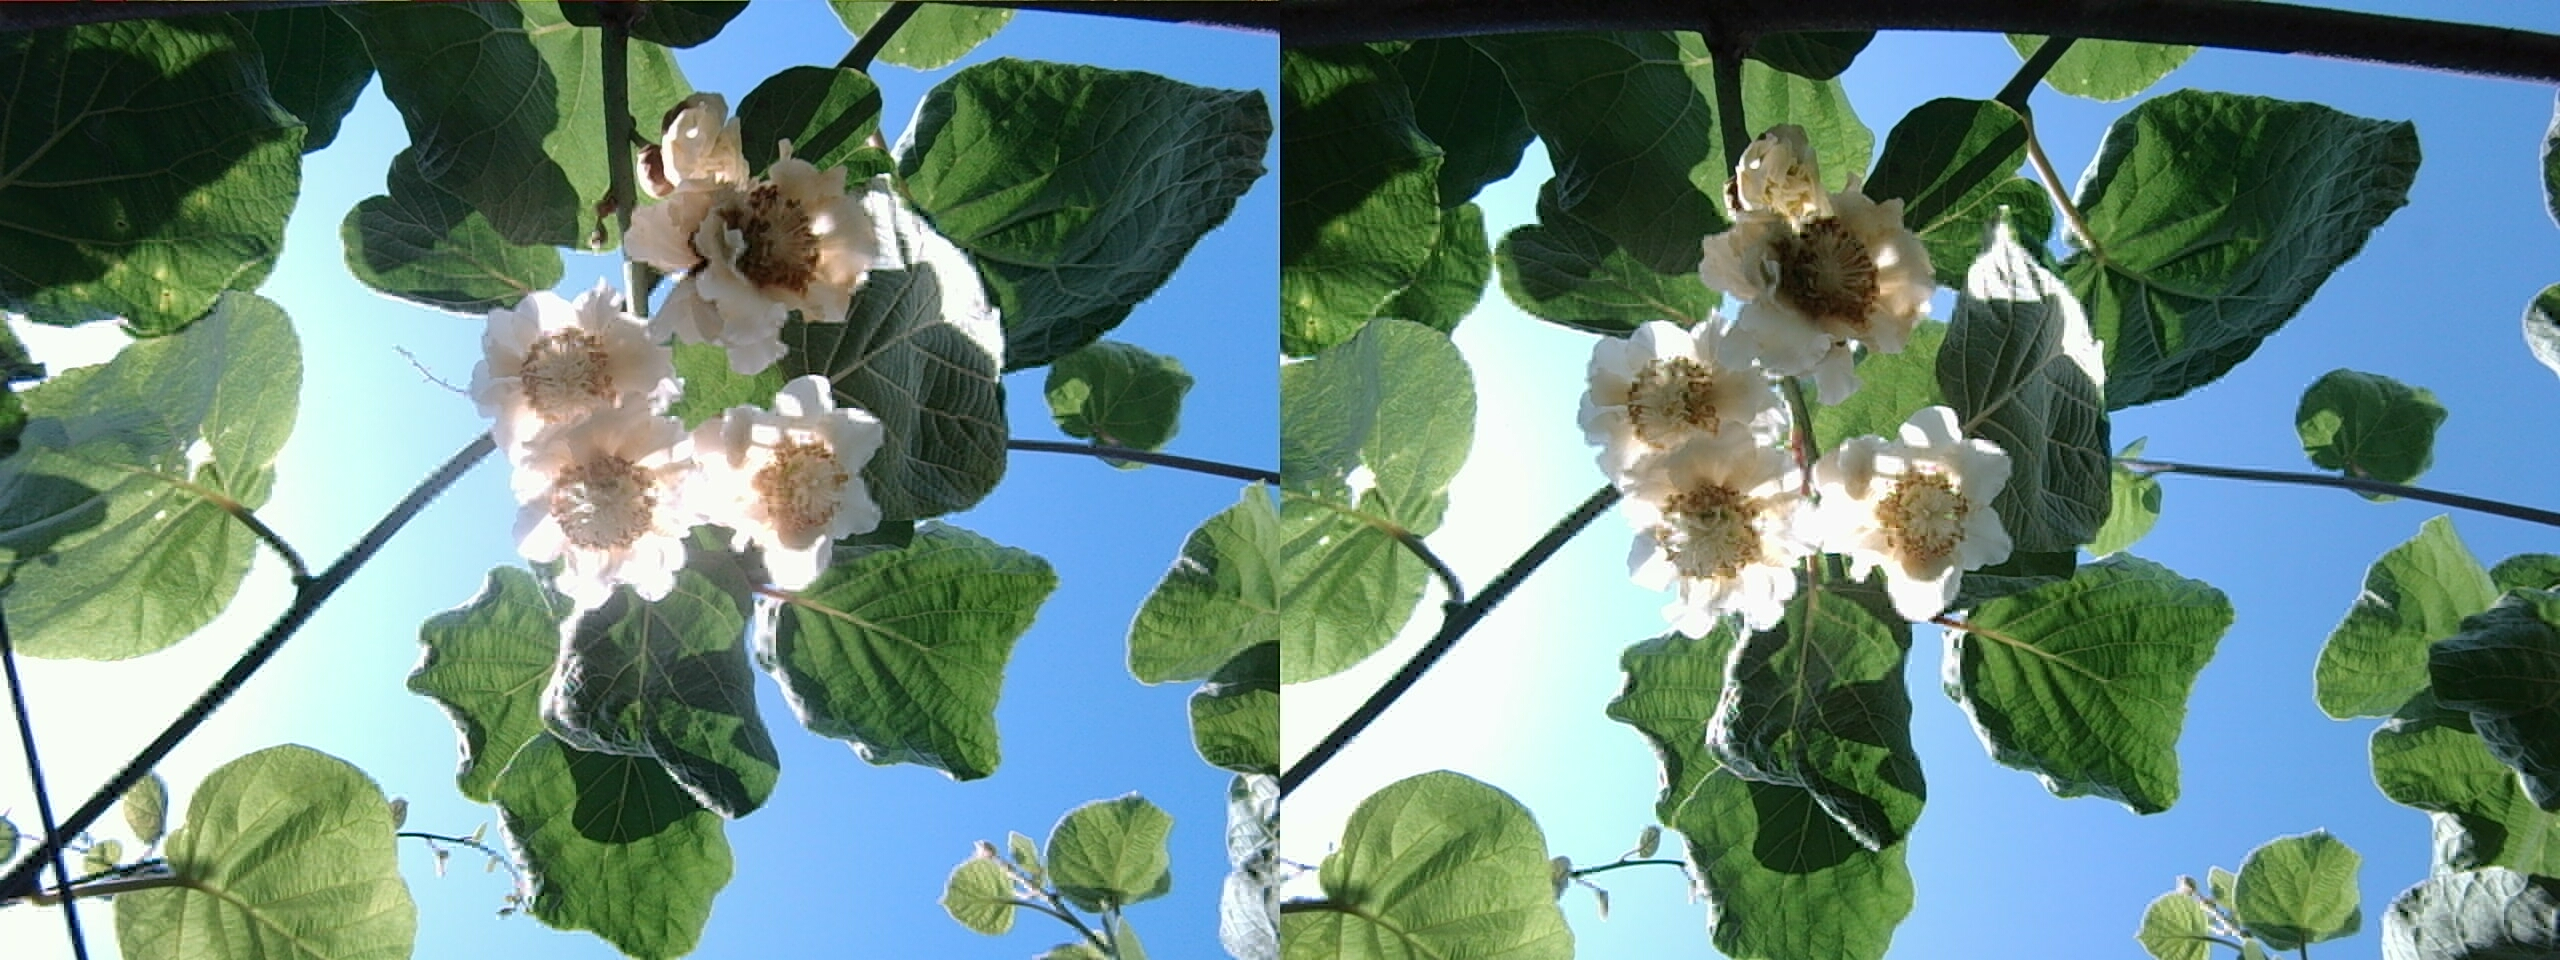flower: (1566, 335, 1827, 635), (632, 103, 882, 361), (1691, 126, 1935, 371), (482, 372, 735, 601), (1566, 317, 1793, 514), (465, 281, 687, 482), (1804, 420, 2016, 611), (679, 393, 890, 578)
